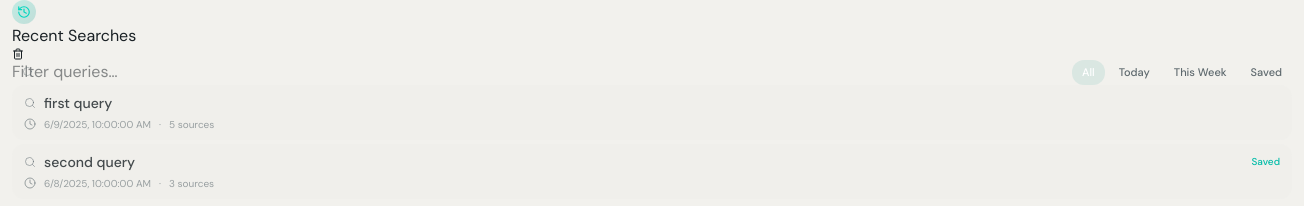
Test: SearchHistory › shows no matching searches message when filter yields no results
The width and height of the screenshot is (1304, 206).
Expected: the text "first query" is shown, [44,92,112,112]
Type "nonexistent" into the field with placeholder "Filter queries…" at (106, 72), box [12,60,200,84]
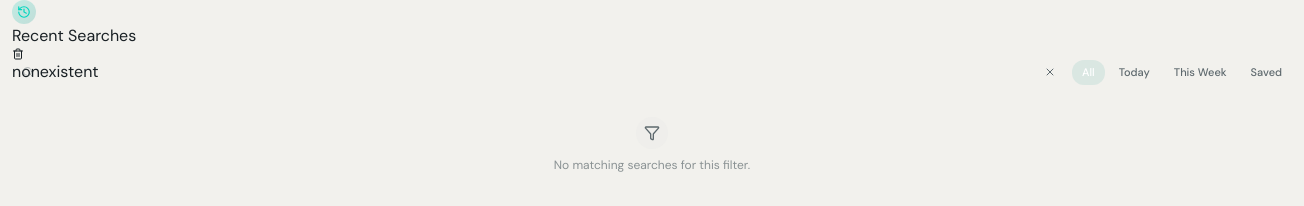
Result: the text "No matching searches for this filter." is shown at [554,156,750,172]
